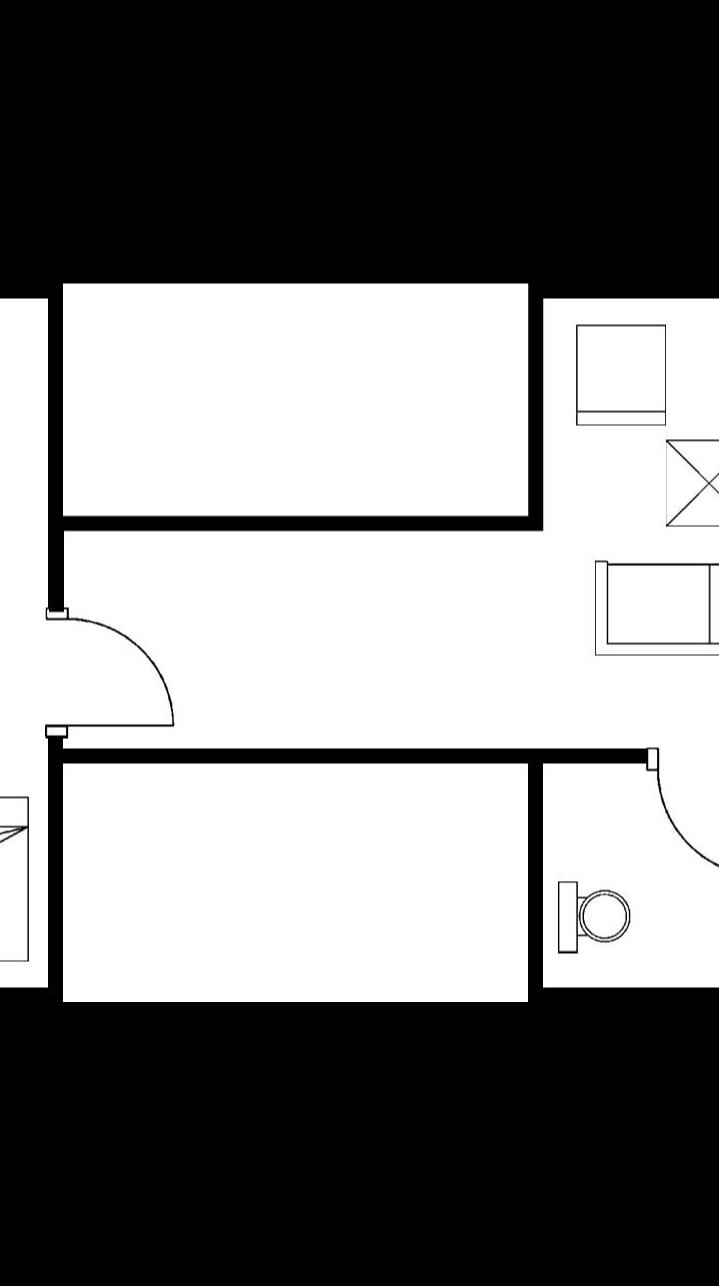bed: (0, 786, 37, 973)
sofa: (584, 551, 719, 663)
toilet: (549, 864, 634, 967)
